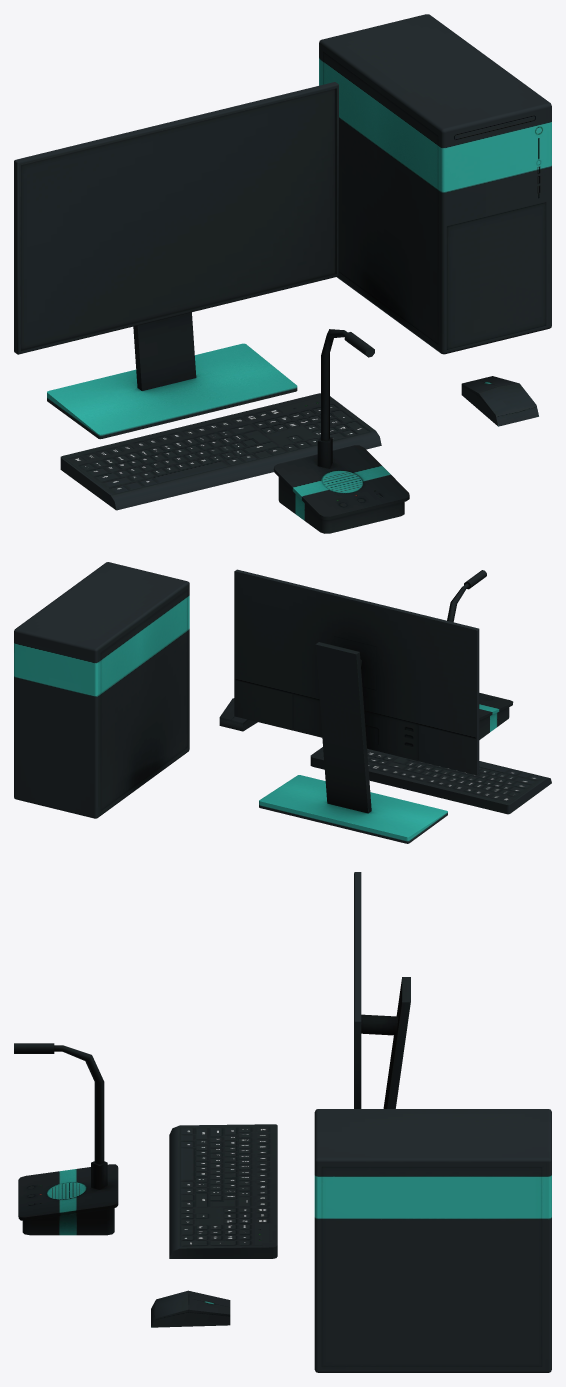
The model's file is hospital_pc.glb.
3 views of the same model, one above another, from view 1: azimuth 30°, elevation 25°; view 2: azimuth 150°, elevation 25°; view 3: azimuth 270°, elevation 25° (orthographic). The views are drawn at different scales.
Parts seen in each view (by area): view 1: hospital_pc_4, hospital_pc_3, hospital_pc_0, hospital_pc_1, hospital_pc_2; view 2: hospital_pc_4, hospital_pc_3, hospital_pc_0, hospital_pc_1, hospital_pc_2; view 3: hospital_pc_3, hospital_pc_0, hospital_pc_1, hospital_pc_4, hospital_pc_2.
Part boxes in pixels (x1,y1,x2,y2): hospital_pc_4: [14, 82, 338, 439]; hospital_pc_3: [319, 14, 551, 354]; hospital_pc_0: [60, 393, 381, 510]; hospital_pc_1: [273, 329, 409, 533]; hospital_pc_2: [461, 376, 538, 426]; hospital_pc_4: [234, 569, 479, 843]; hospital_pc_3: [14, 562, 189, 818]; hospital_pc_0: [310, 747, 551, 814]; hospital_pc_1: [447, 570, 513, 739]; hospital_pc_2: [219, 698, 257, 731]; hospital_pc_3: [314, 1109, 551, 1372]; hospital_pc_0: [169, 1124, 277, 1258]; hospital_pc_1: [14, 1043, 118, 1235]; hospital_pc_4: [354, 872, 410, 1108]; hospital_pc_2: [151, 1290, 230, 1327].
Bounding box in the file's own units: 0.83 × 0.4264 × 0.7891.
Materials: 1 (1 with a texture image).
